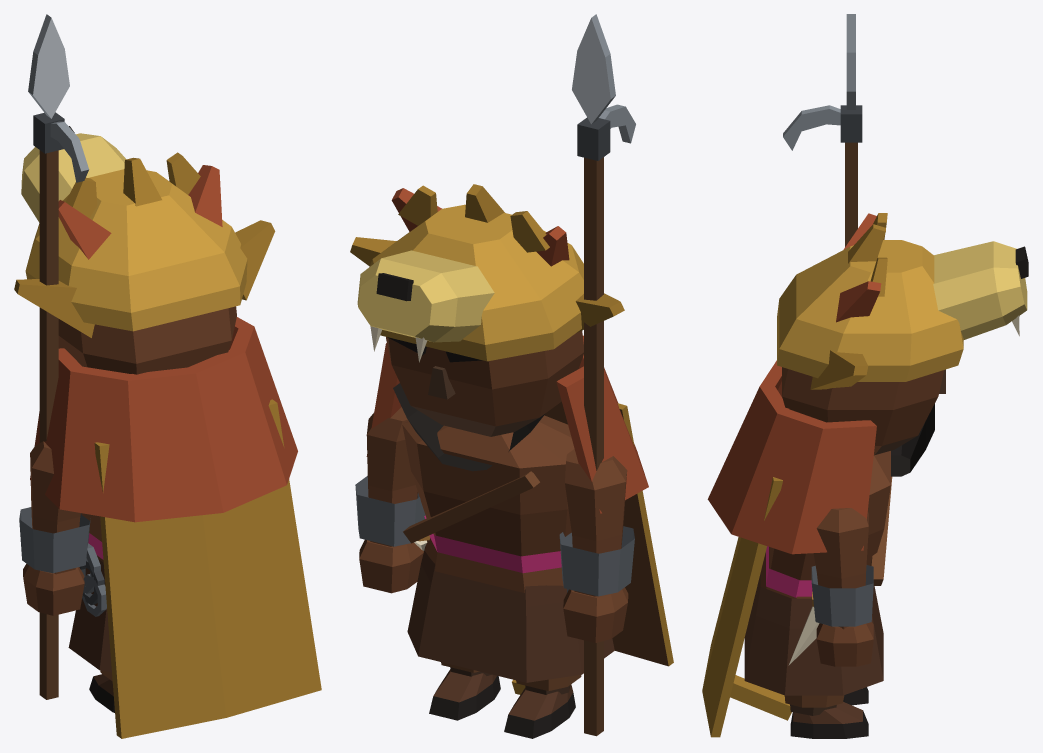
Rendered from EN_BeastLord.fbx.
The picture shows the model from 3 angles, left to right: view 1: azimuth 30°, elevation 25°; view 2: azimuth 150°, elevation 25°; view 3: azimuth 270°, elevation 25°; orthographic projection. The views are drawn at different scales.
Visible parts, largest first — view 1: Body, Head, ArmL, LegL; view 2: Body, Head, ArmL, ArmR, LegL, LegR; view 3: Body, Head, ArmR, ArmL, LegR.
Part boxes in pixels (left/top/right/bottom): Body: left=30, top=317, right=321, bottom=738; Head: left=14, top=126, right=275, bottom=374; ArmL: left=19, top=14, right=90, bottom=699; LegL: left=89, top=670, right=114, bottom=712; Body: left=366, top=335, right=673, bottom=694; Head: left=350, top=184, right=624, bottom=471; ArmL: left=559, top=14, right=635, bottom=736; ArmR: left=355, top=407, right=425, bottom=593; LegL: left=504, top=674, right=581, bottom=738; LegR: left=429, top=662, right=500, bottom=720; Body: left=702, top=360, right=892, bottom=737; Head: left=777, top=213, right=1028, bottom=476; ArmR: left=811, top=508, right=873, bottom=666; ArmL: left=783, top=14, right=862, bottom=246; LegR: left=784, top=695, right=868, bottom=738.
Bounding box in the file's own units: 1.9 × 2.2 × 4.89.
